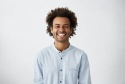male: (48, 10, 76, 43)
